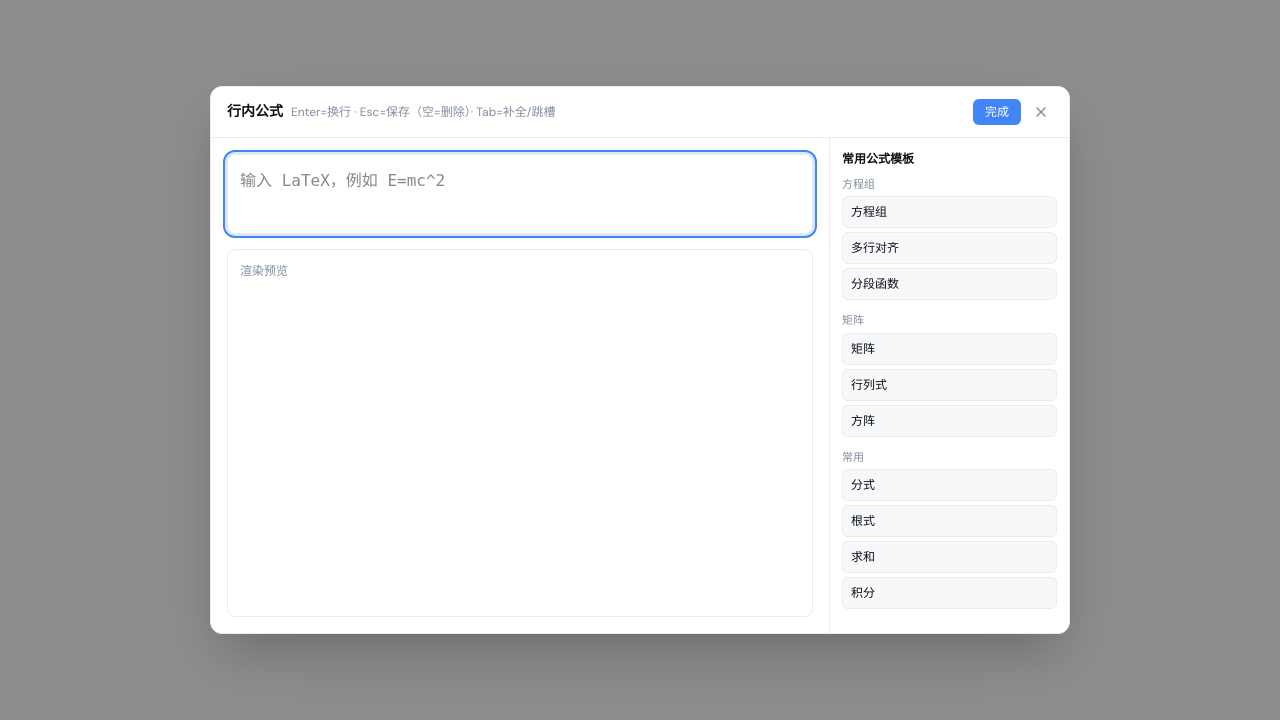
task-63 A11：模板面板插入后，光标落在**新**模板的槽 › A11-8 无旧槽时插入模板：仍选中新槽（既有语义不回归）
Click the button "分式" at (950, 485), box 842,469 -> 1057,501
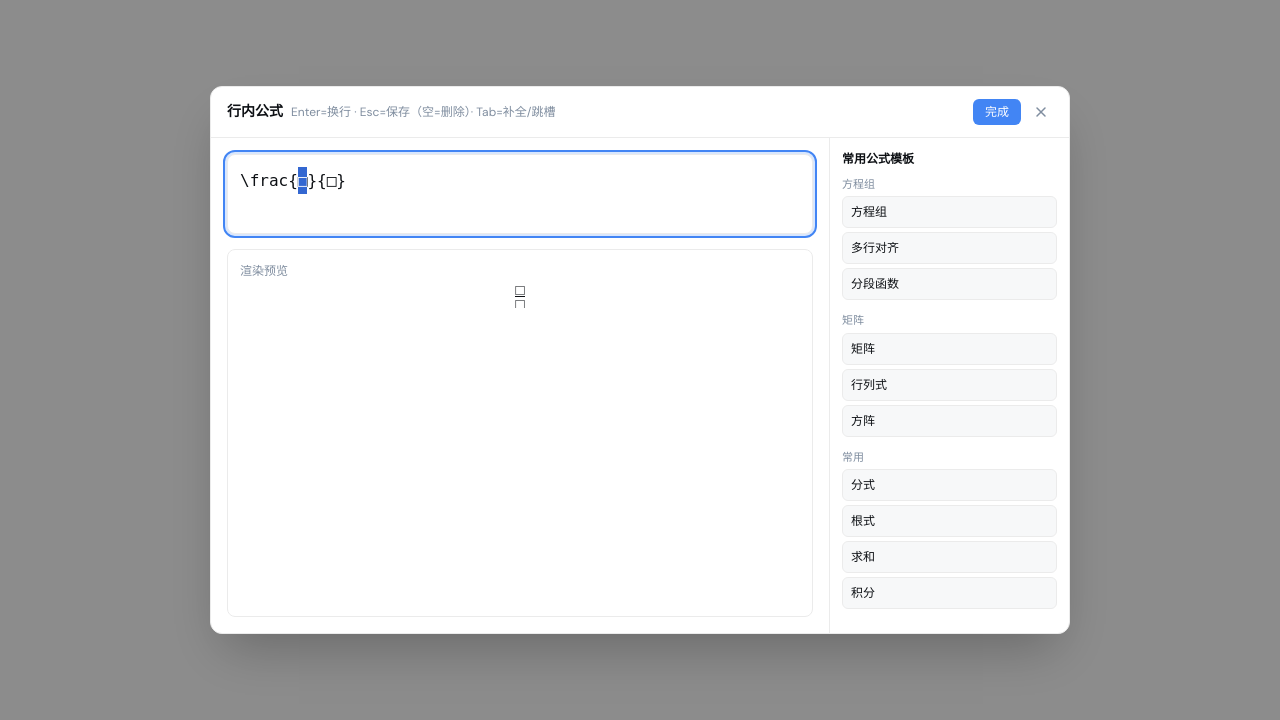
Check: the text box holds "\\frac{□}{□}", box 227,154 -> 813,234
